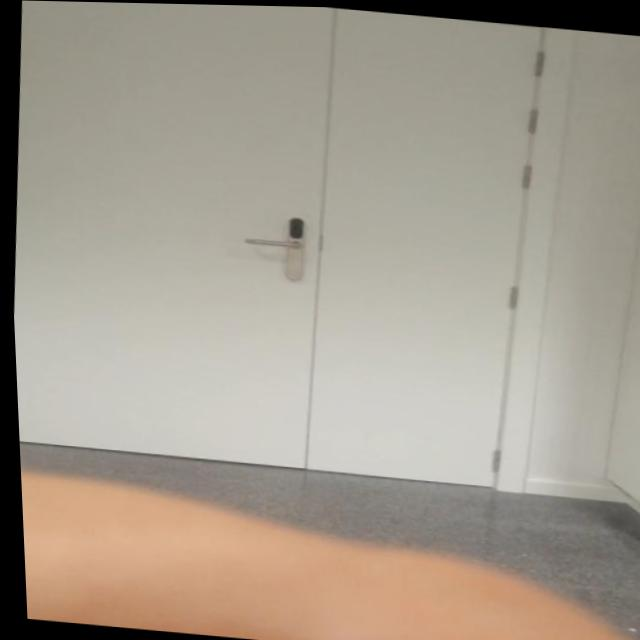door_handle: (234, 234, 309, 251)
